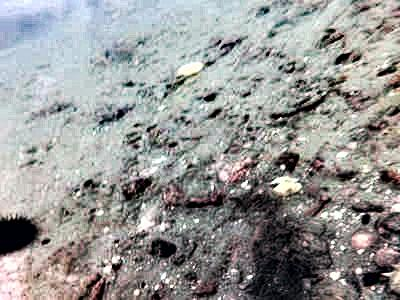urchin: (1, 211, 37, 250)
